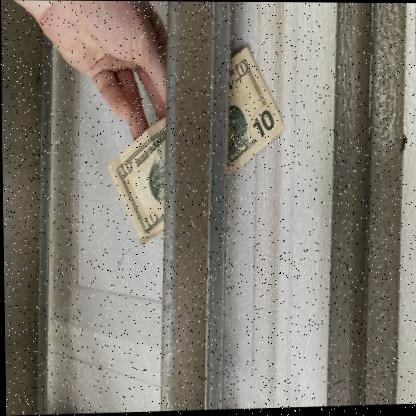dollar_back: (105, 47, 285, 248)
